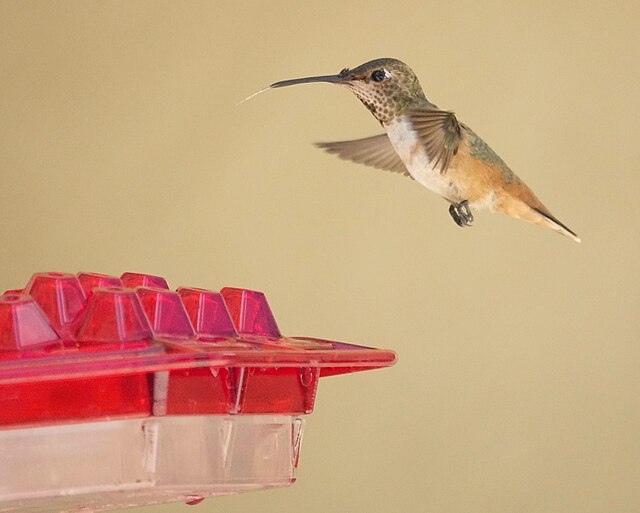selasphorus sasin: (260, 61, 581, 243)
